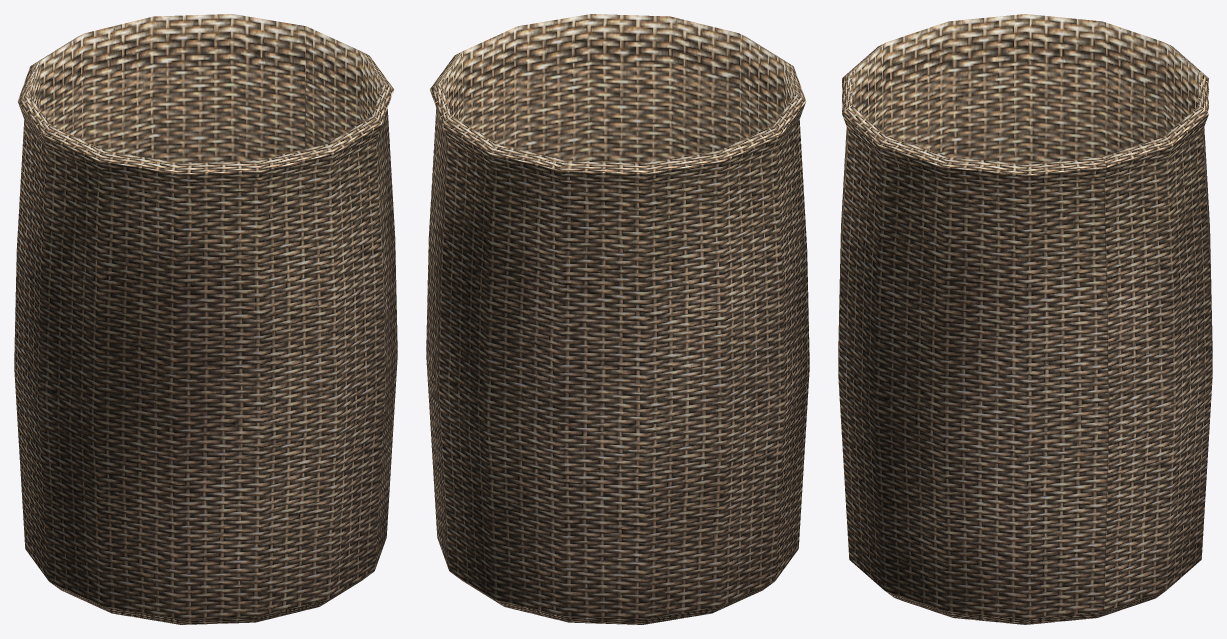
The model's file is basket_LOD1.FBX.
3 renders of one model, left to right at view 1: azimuth 30°, elevation 25°; view 2: azimuth 150°, elevation 25°; view 3: azimuth 270°, elevation 25°, orthographic.
Parts seen in each view (by area): view 1: basket_LOD2; view 2: basket_LOD2; view 3: basket_LOD2.
Part boxes in pixels (x1,y1,x2,y2): basket_LOD2: (14, 14, 397, 624); basket_LOD2: (426, 14, 809, 624); basket_LOD2: (838, 14, 1212, 624).
Size of the model in its own units: 51.46 by 68.89 by 50.17.
